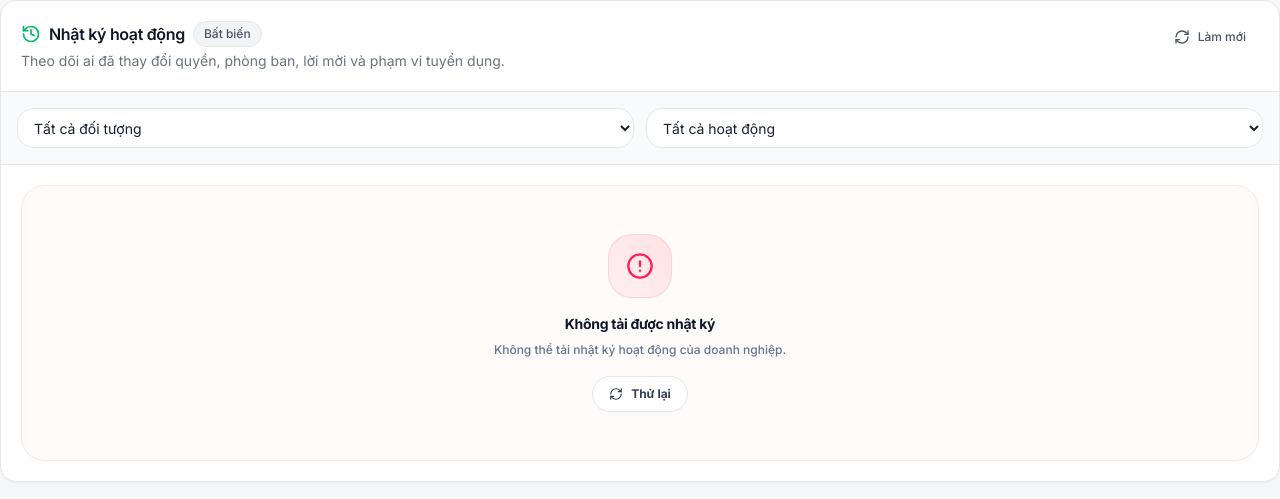
Test: ActivityTimeline › keeps an actionable retry path when activity loading fails
The image size is (1280, 499).
Check: the heading "Không tải được nhật ký" is shown, box [565, 314, 715, 334]
Click the button "Thử lại" at (640, 394), box [592, 376, 688, 412]
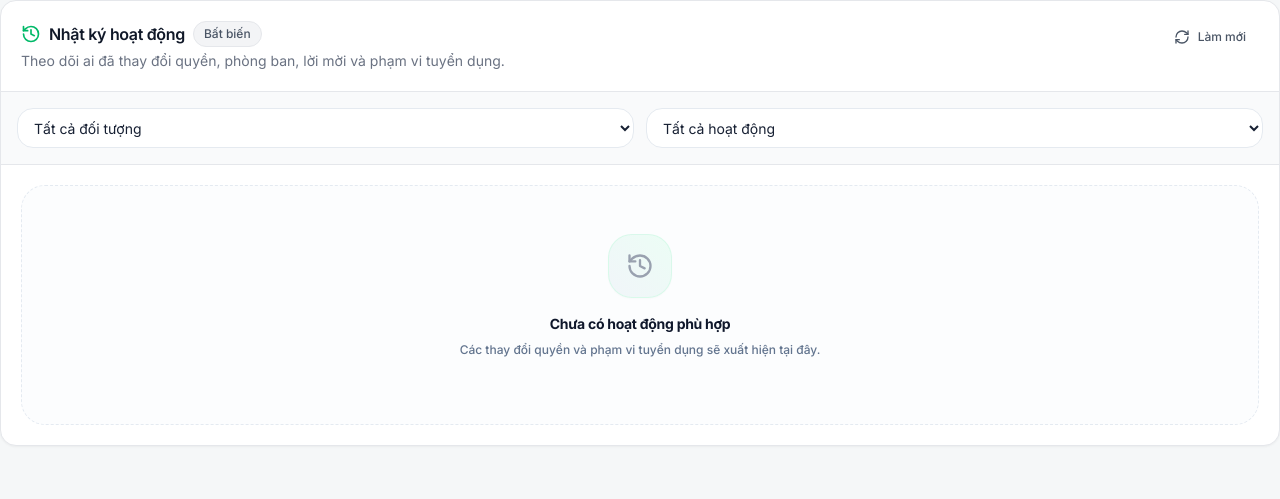
Check: the heading "Chưa có hoạt động phù hợp" is shown, box [550, 314, 730, 334]
